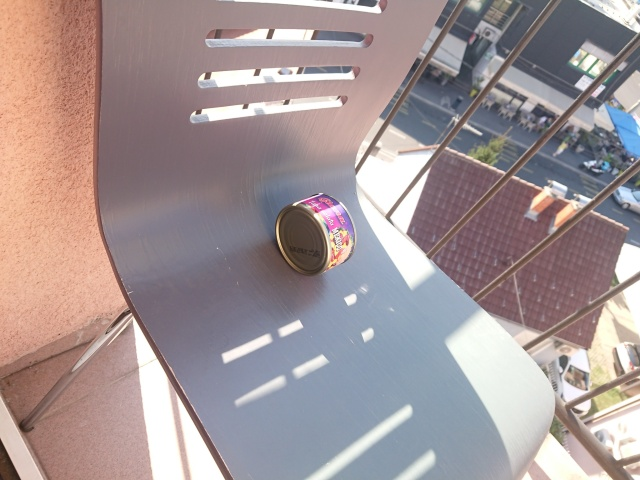Giana Tuna Salad Mexico 185g: (272, 187, 359, 280)
